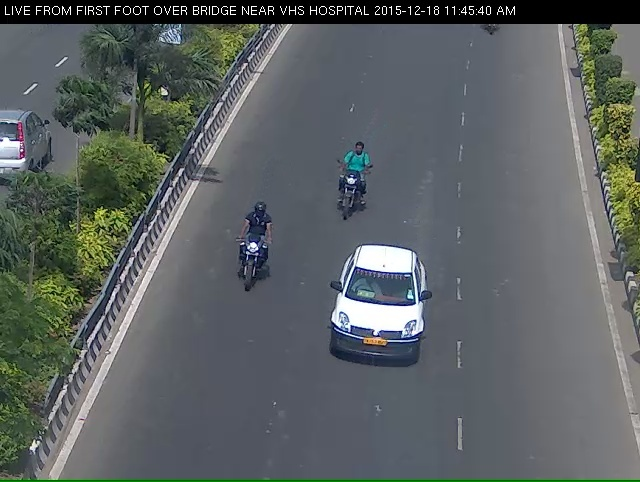Car: (328, 258, 430, 400)
Person: (327, 150, 372, 241), (223, 221, 263, 306)
